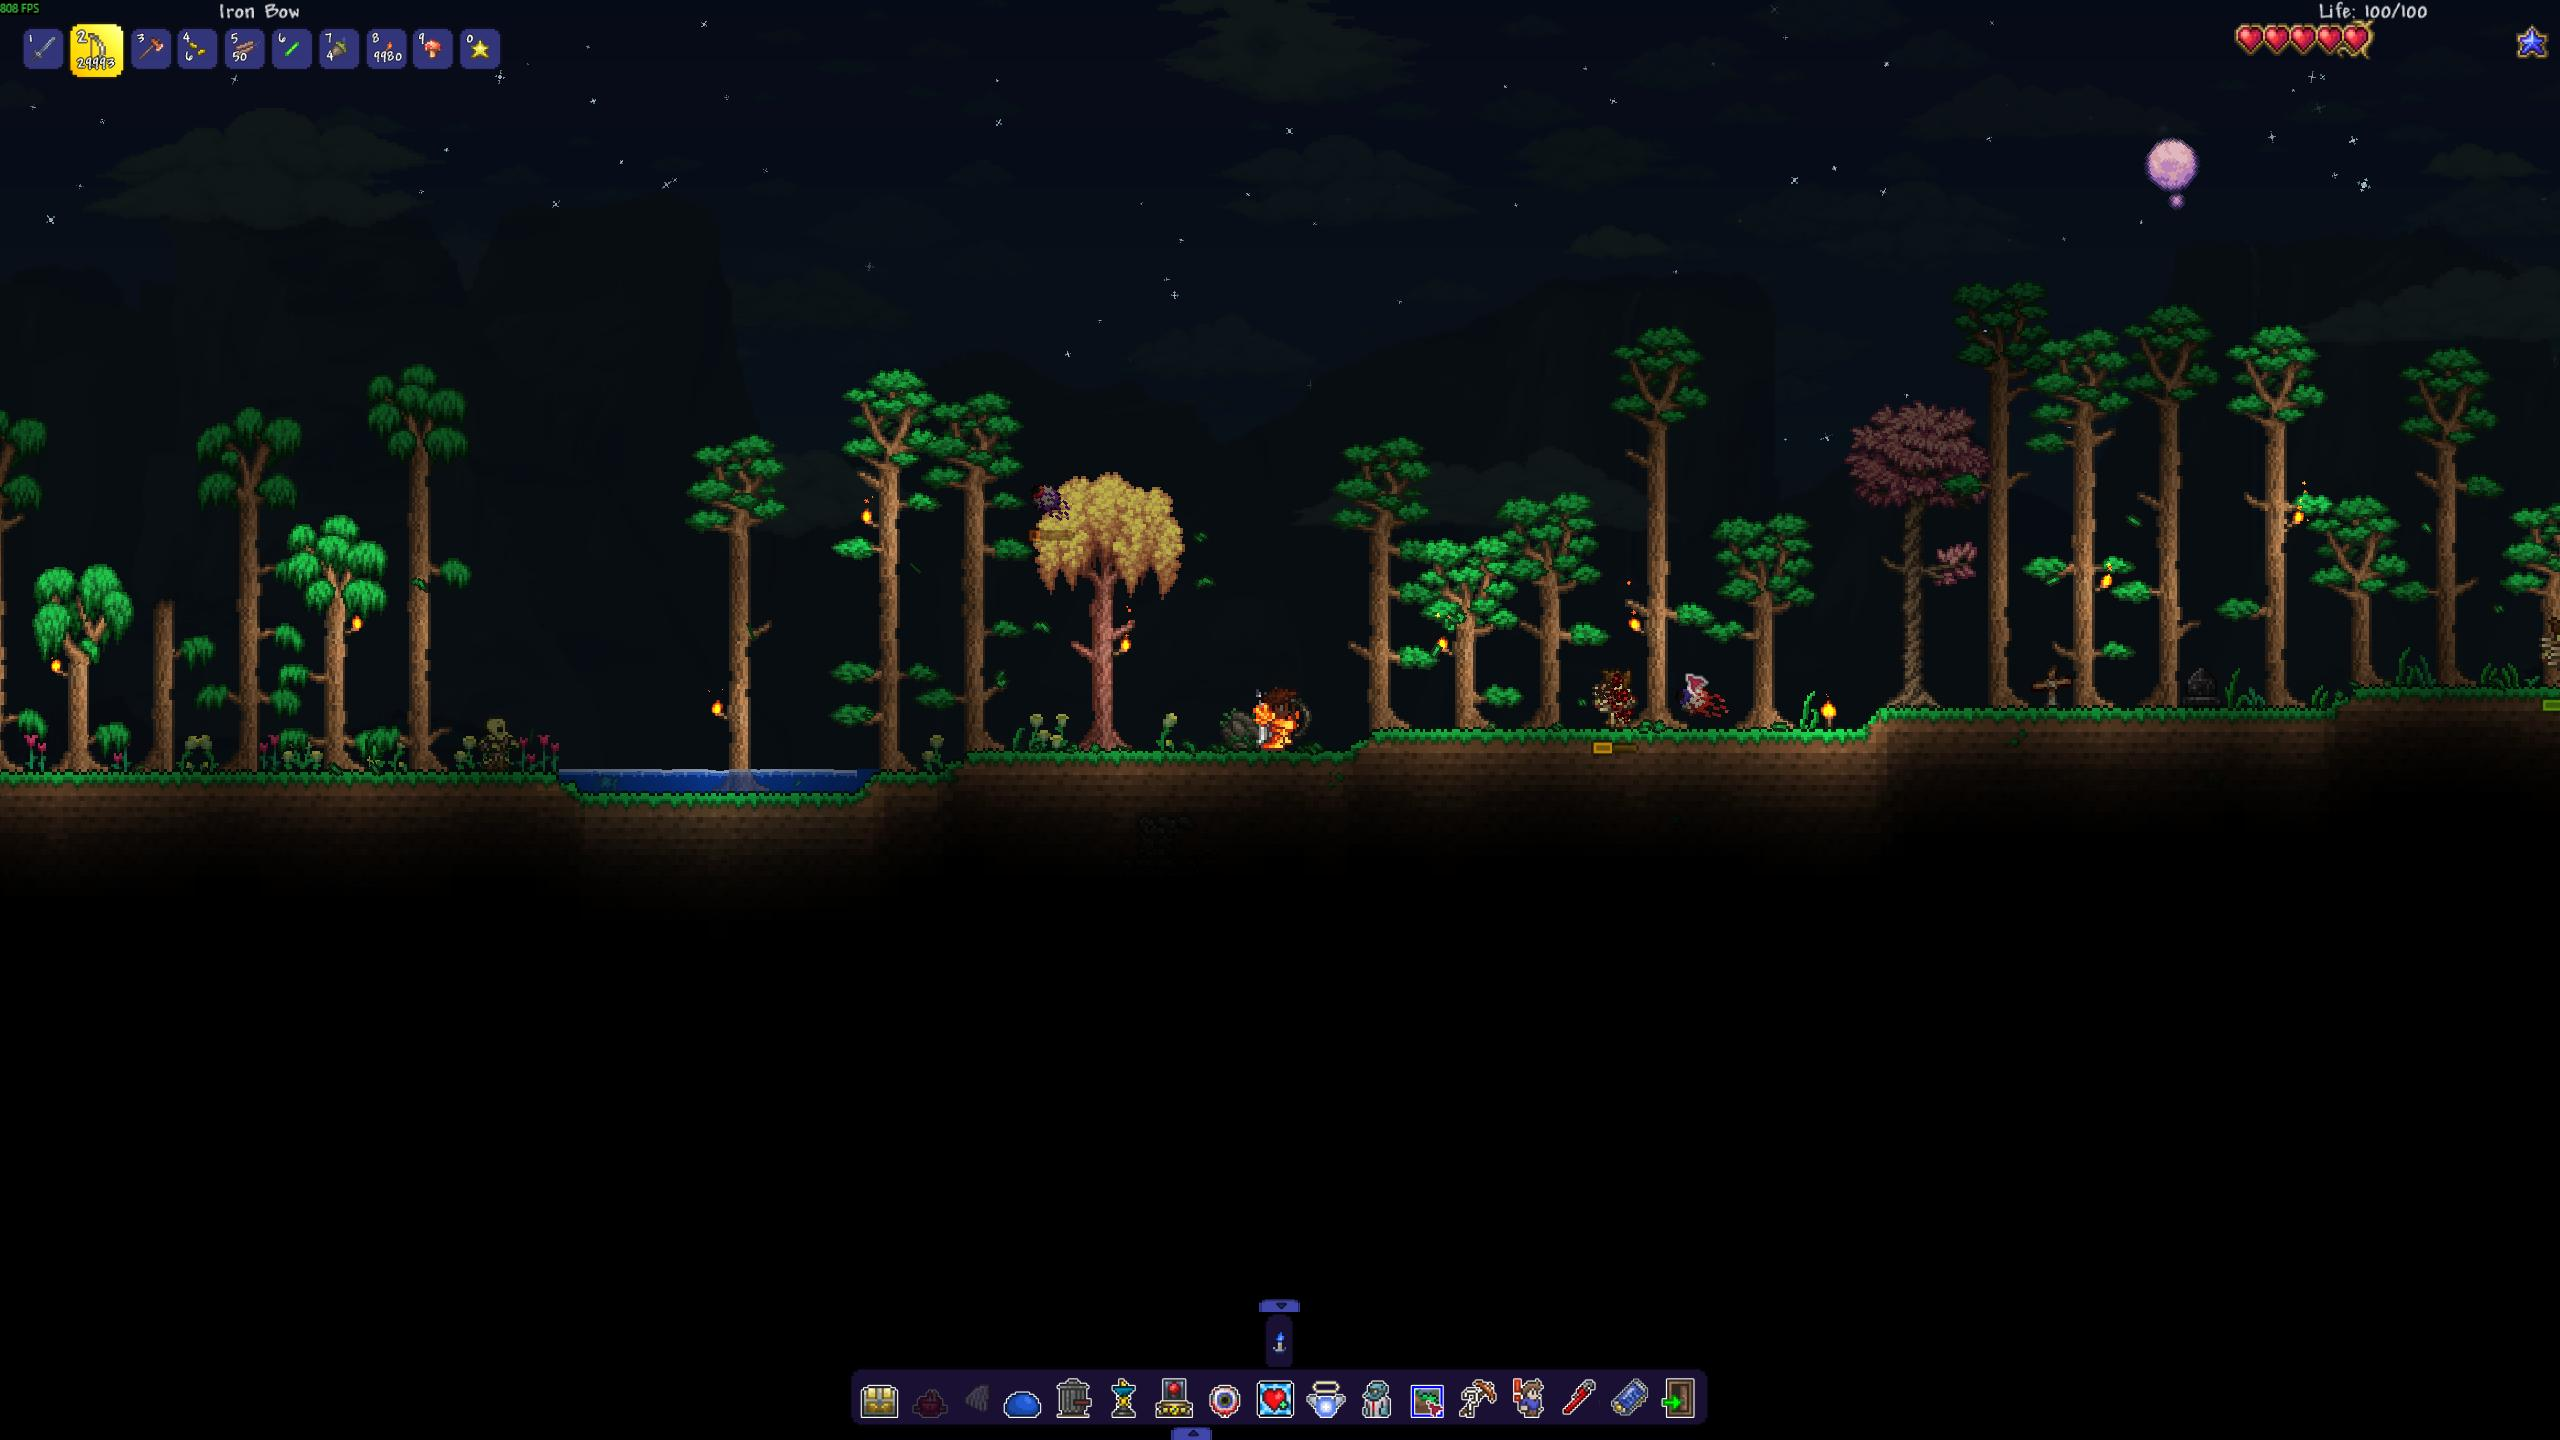Demon Eye: (1674, 682, 1727, 721), (1027, 475, 1067, 522)
Zombie: (1589, 663, 1640, 728), (475, 712, 517, 768), (2537, 608, 2560, 687)
